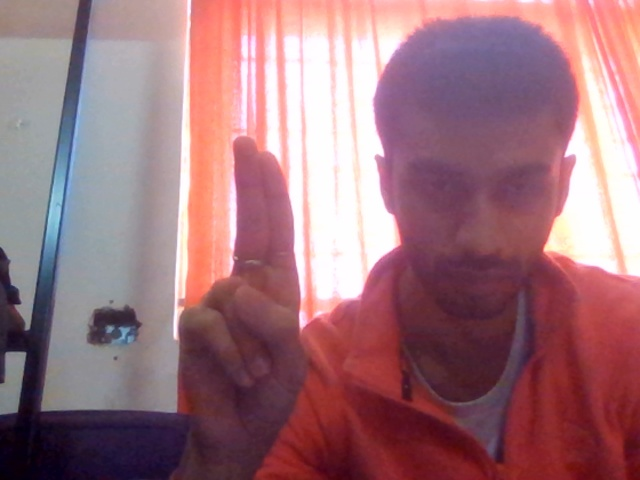U: (152, 136, 359, 479)
